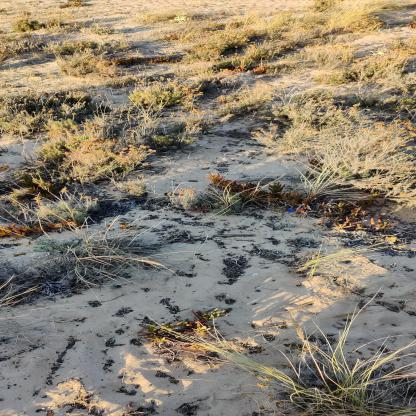plastik: (288, 210, 296, 213)
